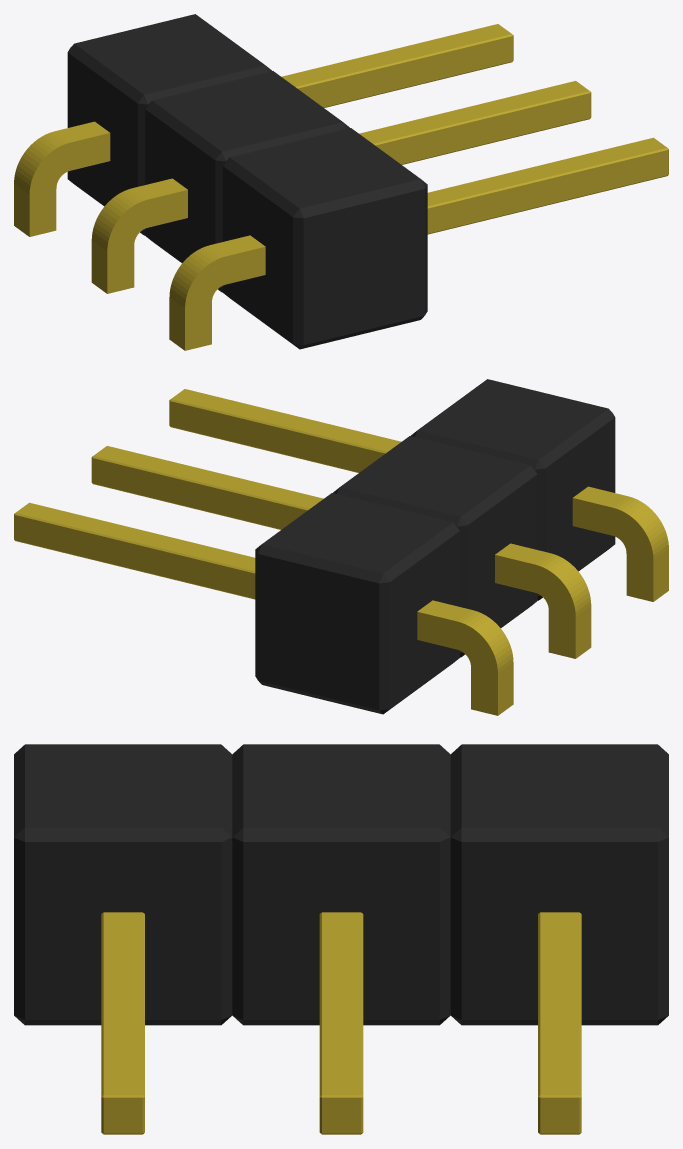
The model's file is __mod__.glb.
The picture shows the model from 3 angles, top to bottom: view 1: azimuth 30°, elevation 25°; view 2: azimuth 150°, elevation 25°; view 3: azimuth 270°, elevation 25°; orthographic projection. The views are drawn at different scales.
Visible parts, largest first — view 1: Plane; view 2: Plane; view 3: Plane.
Boxes of the visible parts, x1,y1,x2,y2 form: Plane: [14, 14, 668, 350]; Plane: [14, 379, 668, 715]; Plane: [14, 744, 668, 1134].
Bounding box in the file's own units: 0.00914 × 0.00254 × 0.00762.
